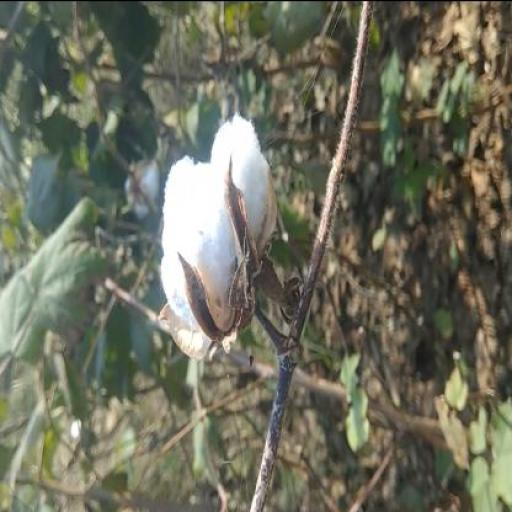cotton_ready: (156, 100, 318, 382)
